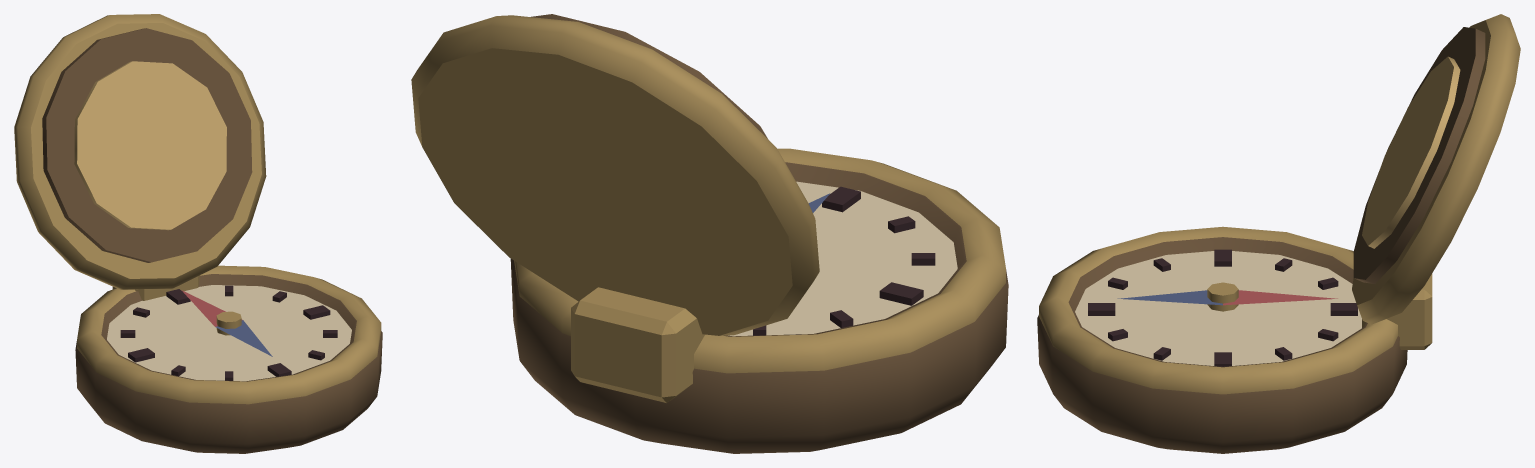
The model's file is brass_compass.glb.
3 renders of one model, left to right at view 1: azimuth 30°, elevation 25°; view 2: azimuth 150°, elevation 25°; view 3: azimuth 270°, elevation 25°, orthographic. The views are drawn at different scales.
Visible parts, largest first — view 1: brass_compass; view 2: brass_compass; view 3: brass_compass.
Part boxes in pixels (left/top/right/bottom): brass_compass: left=14, top=14, right=382, bottom=453; brass_compass: left=411, top=14, right=1008, bottom=453; brass_compass: left=1037, top=14, right=1520, bottom=453.
Bounding box in the file's own units: 0.19 × 0.2041 × 0.2472.
